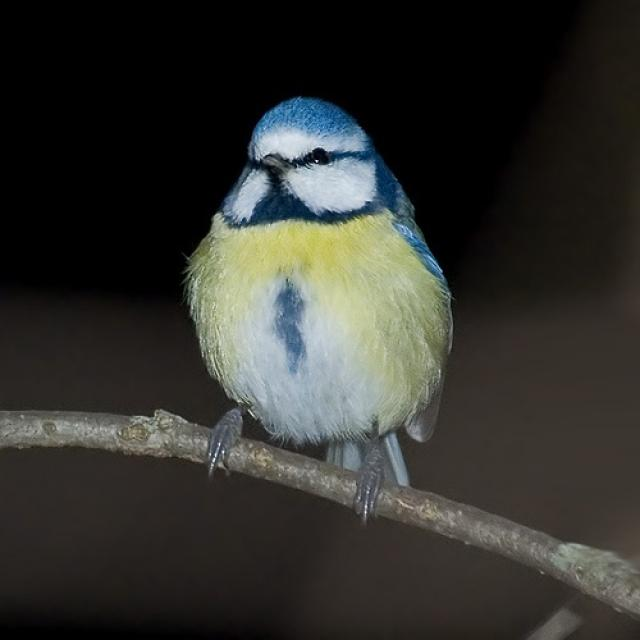bird: (182, 95, 456, 522)
